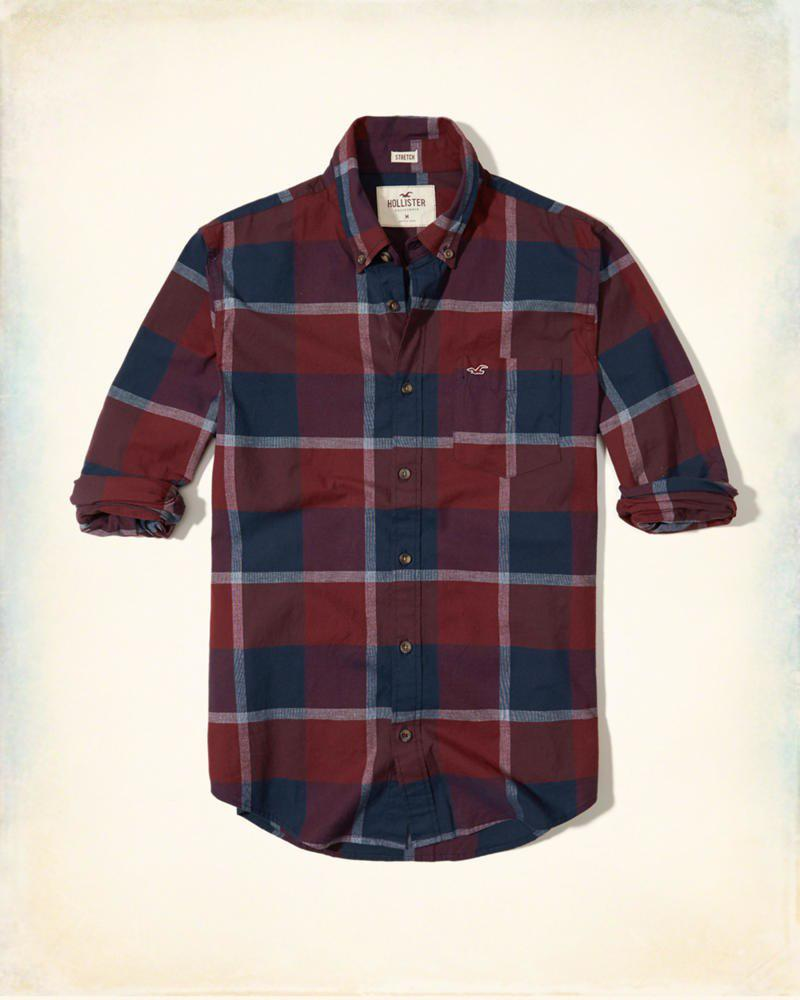teeshirt: (67, 112, 745, 886)
